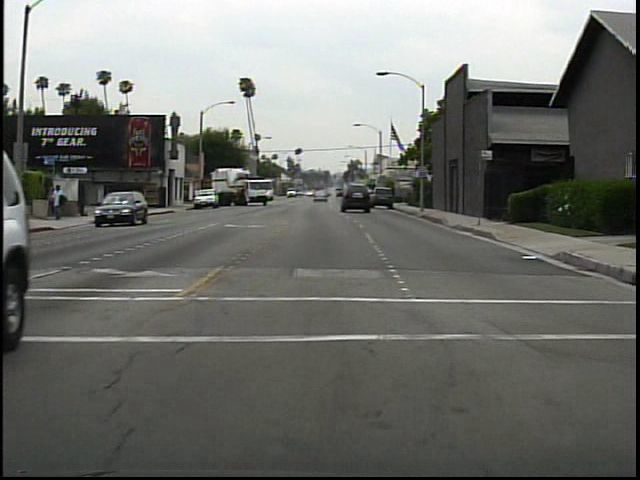person: (52, 182, 73, 224)
